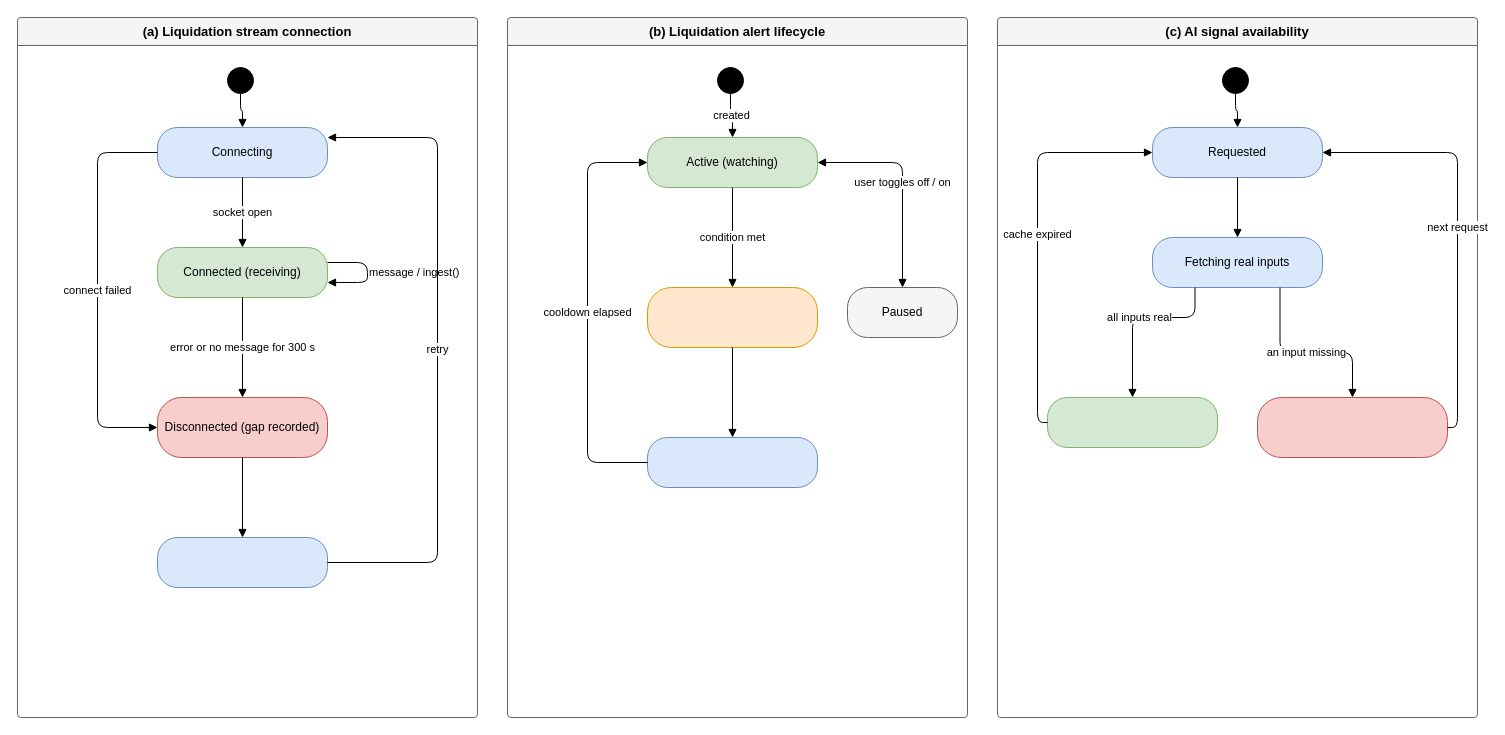
Some shapes in this 1505 by 735 pixel diagram are drawn without their labels. Each missing label, with the centre of its shape:
"Available (cached 5 min)" belongs at point (1132, 422).
"Cooling down" belongs at point (732, 462).
"Triggered (notify, Telegram)" belongs at point (732, 317).
"Unavailable (503, missing list)" belongs at point (1352, 427).
"Waiting 5 s" belongs at point (242, 562).
